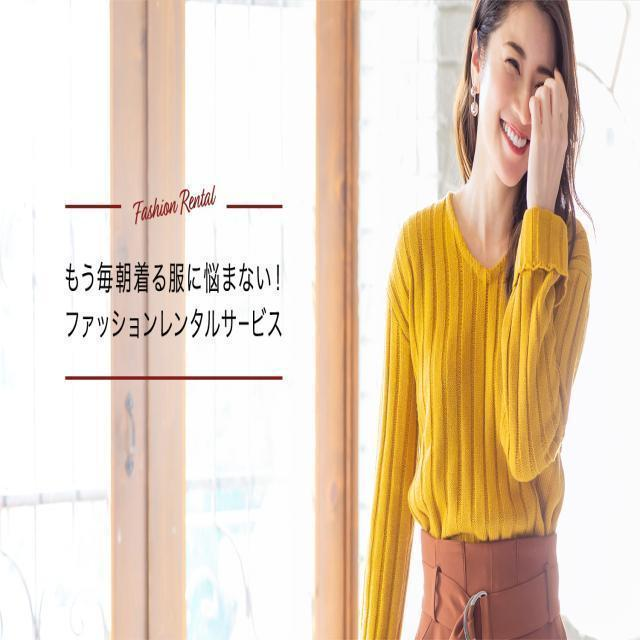direk: (370, 0, 592, 640)
